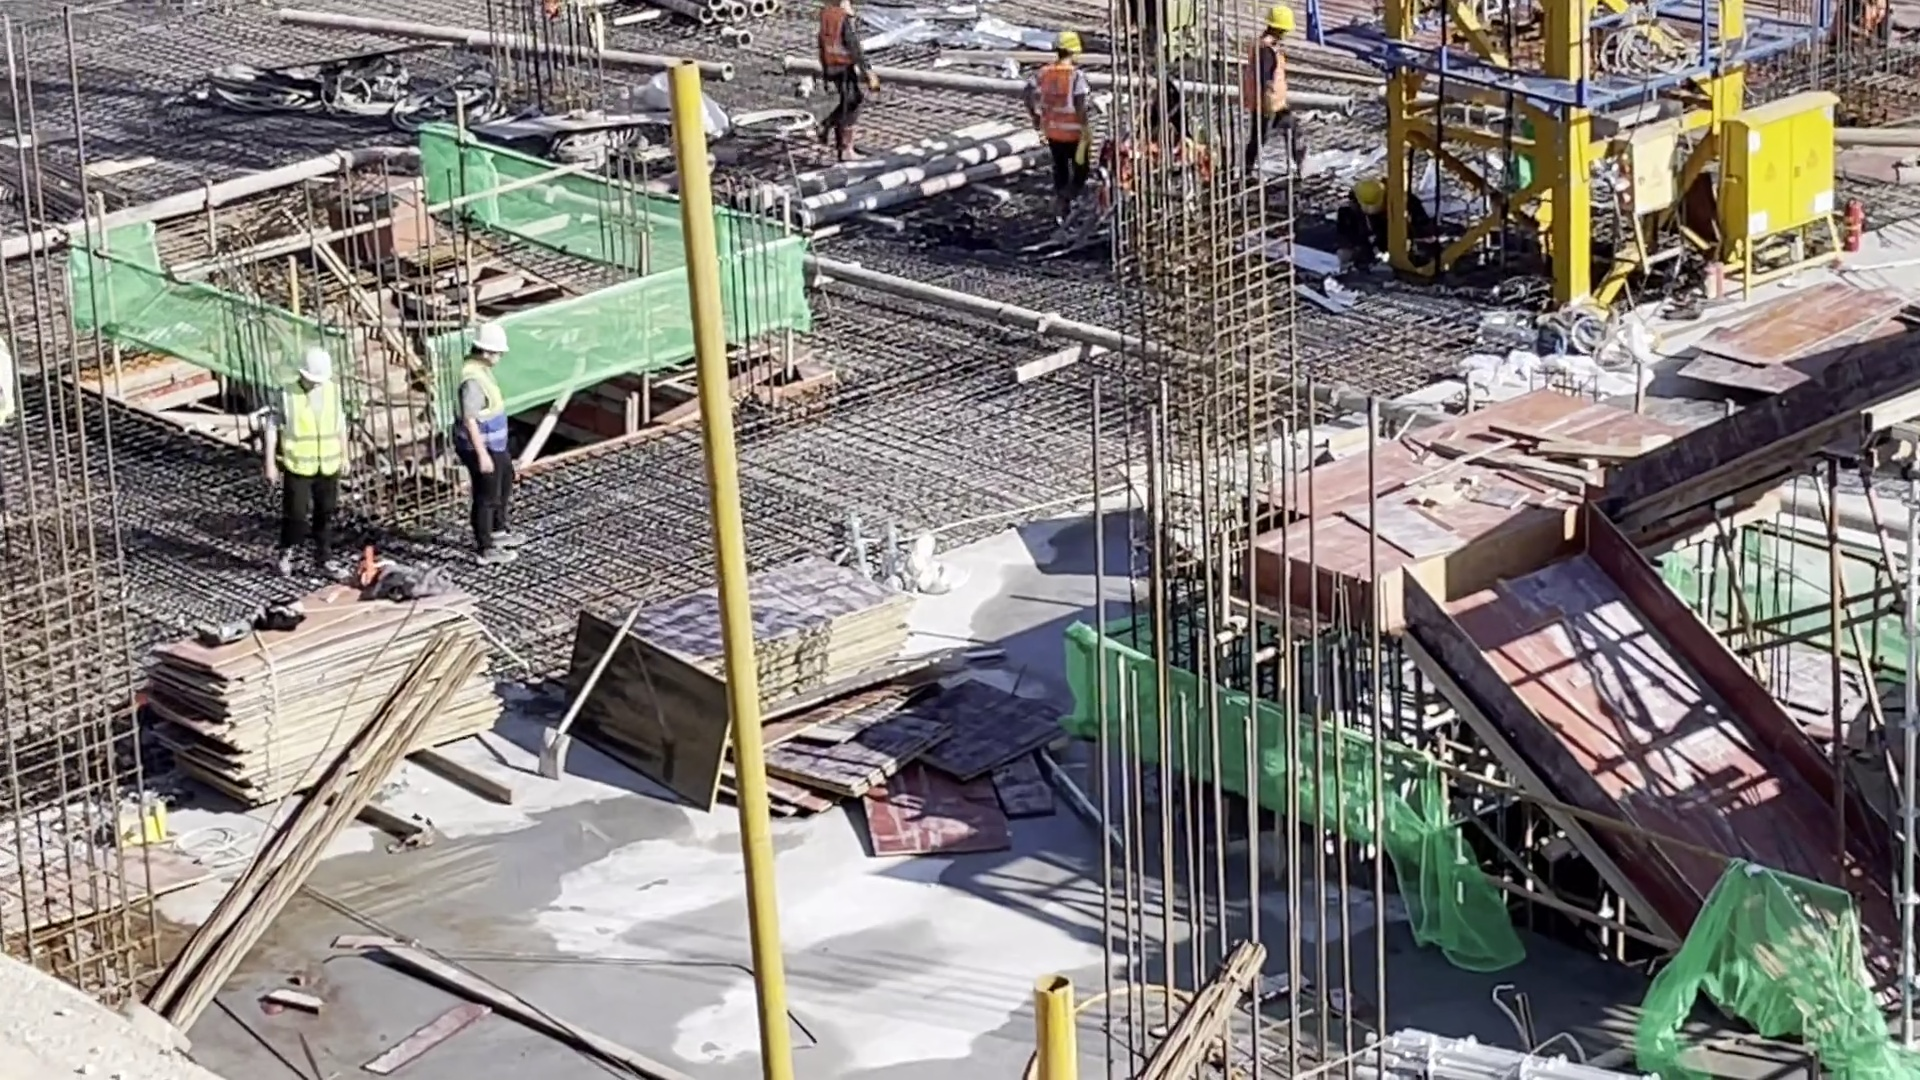helmet: (1350, 175, 1387, 219), (295, 351, 339, 384), (473, 327, 514, 357), (1048, 28, 1084, 57), (1269, 5, 1291, 31)
person: (264, 348, 358, 579), (456, 324, 538, 571), (1023, 30, 1100, 217), (806, 2, 881, 160), (1245, 2, 1308, 172), (1340, 172, 1438, 267), (1836, 1, 1901, 53)
vest: (272, 382, 350, 477), (458, 361, 511, 454), (1033, 58, 1089, 142), (1247, 36, 1291, 121), (817, 6, 857, 80)
